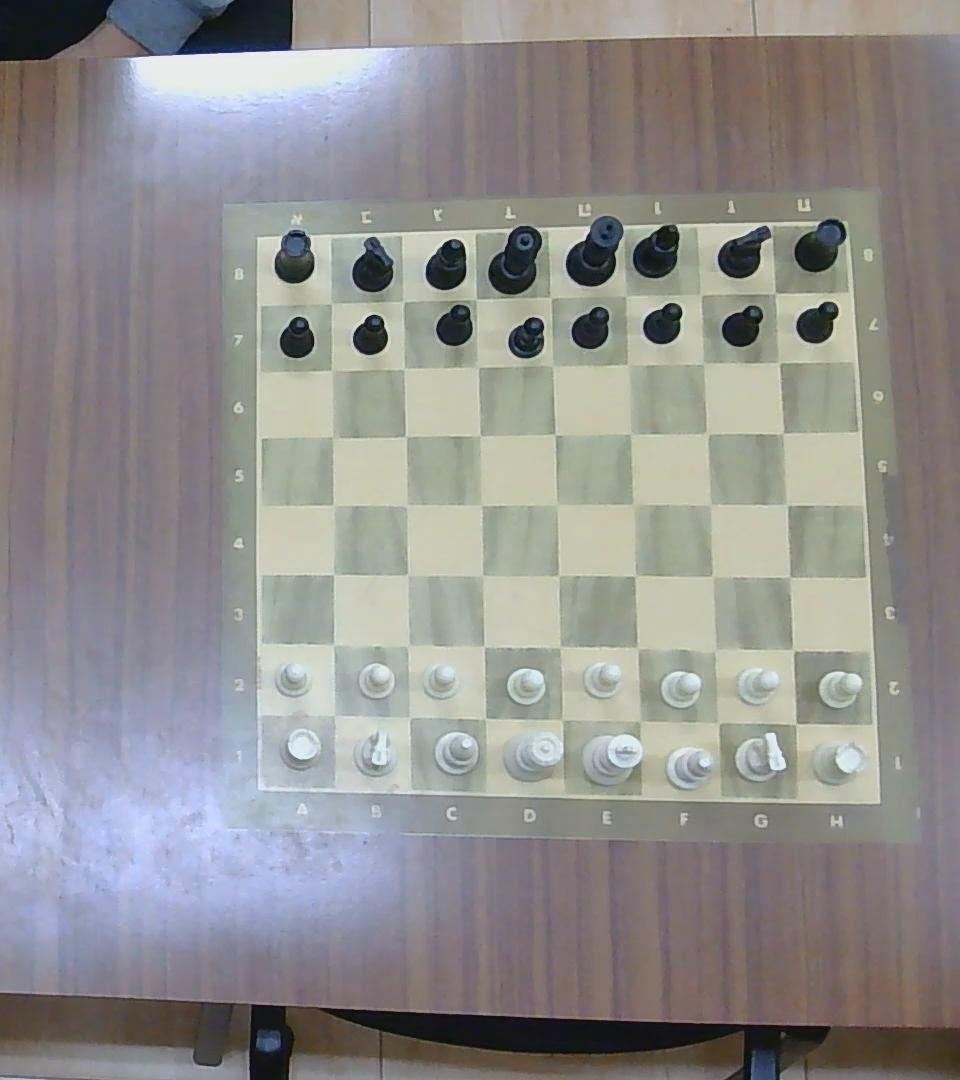xcorner: (777, 705, 811, 739), (619, 631, 653, 664), (622, 702, 656, 735), (701, 705, 734, 738), (697, 633, 731, 665), (468, 701, 501, 733), (545, 702, 578, 734), (543, 630, 575, 662), (318, 698, 350, 729), (392, 630, 423, 661), (774, 561, 805, 592), (697, 561, 728, 592), (393, 699, 423, 731), (619, 560, 650, 590), (468, 631, 499, 661), (318, 629, 349, 659), (776, 634, 807, 664), (466, 560, 496, 590), (543, 560, 573, 590), (319, 558, 348, 588), (542, 488, 572, 517), (459, 284, 489, 313), (619, 488, 649, 517), (615, 419, 645, 447), (393, 561, 422, 589), (319, 490, 348, 518), (611, 280, 639, 309), (537, 350, 566, 378), (467, 490, 495, 518), (317, 421, 345, 449), (693, 419, 721, 447), (316, 288, 345, 315), (772, 489, 801, 516), (464, 351, 491, 380), (536, 283, 565, 310), (317, 354, 345, 381), (393, 489, 421, 516), (695, 489, 723, 516), (540, 420, 568, 447), (614, 350, 642, 377), (769, 420, 797, 446), (392, 422, 418, 448), (688, 280, 714, 306), (390, 353, 415, 379), (390, 287, 415, 313), (761, 279, 787, 304), (690, 350, 715, 375), (466, 421, 491, 446), (766, 350, 791, 374)
